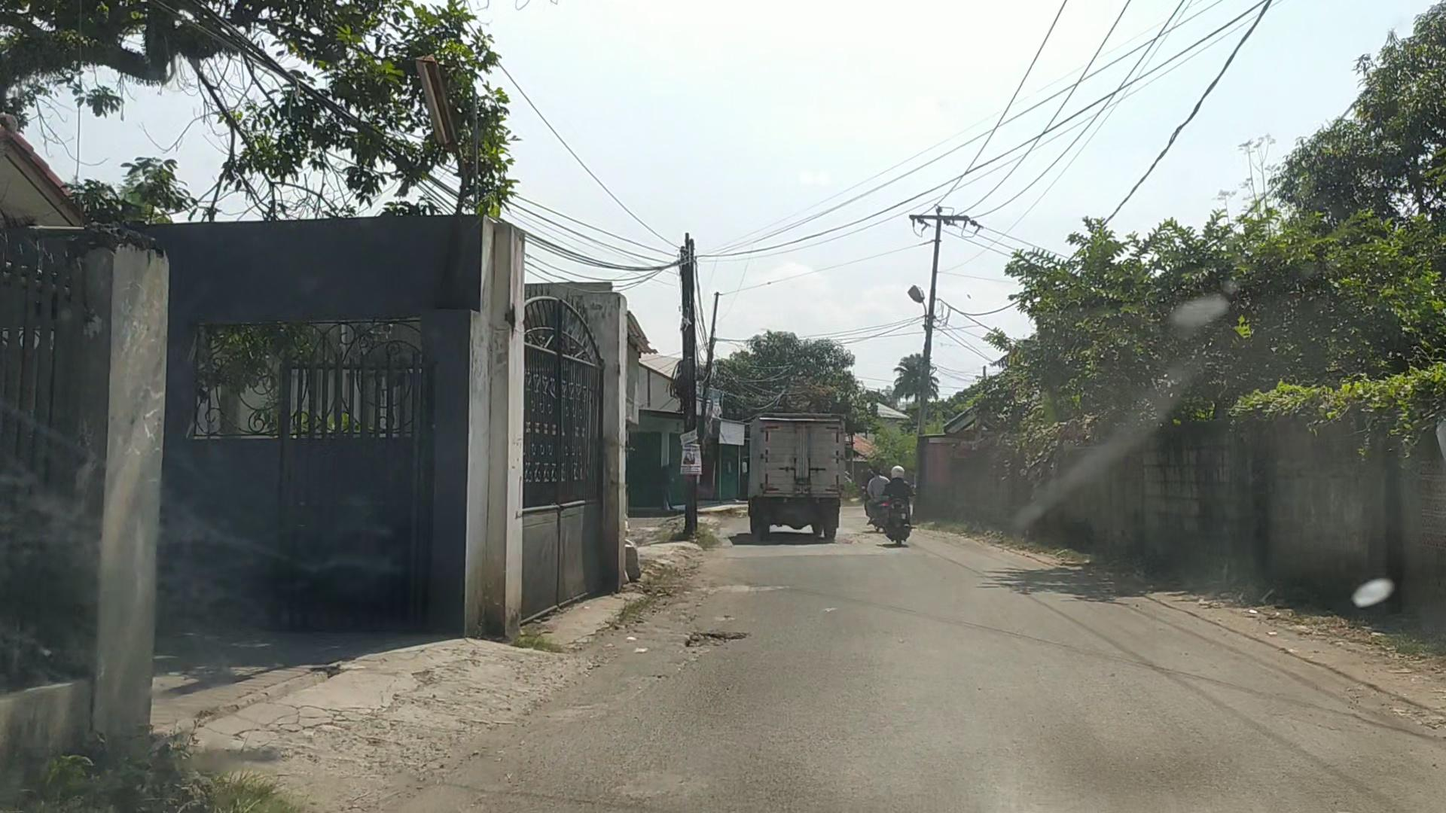pothole: (683, 627, 747, 652)
